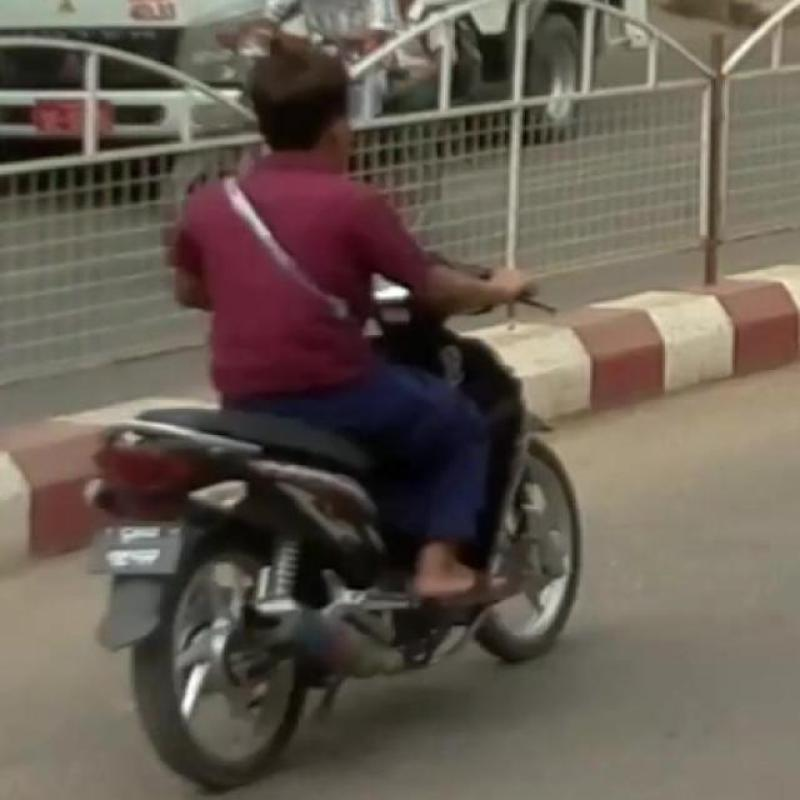nohelmet: (177, 14, 368, 204)
